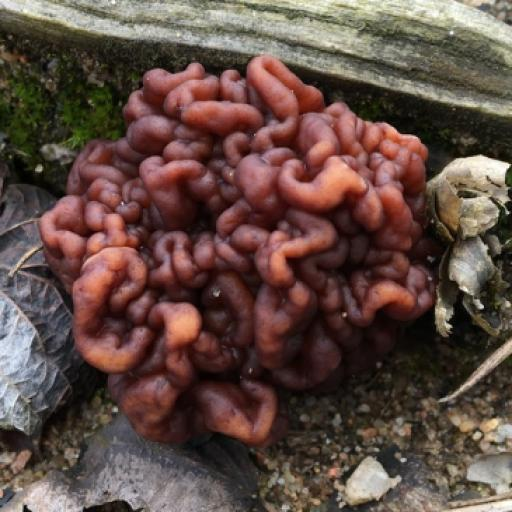False Morel: (0, 0, 490, 479)
